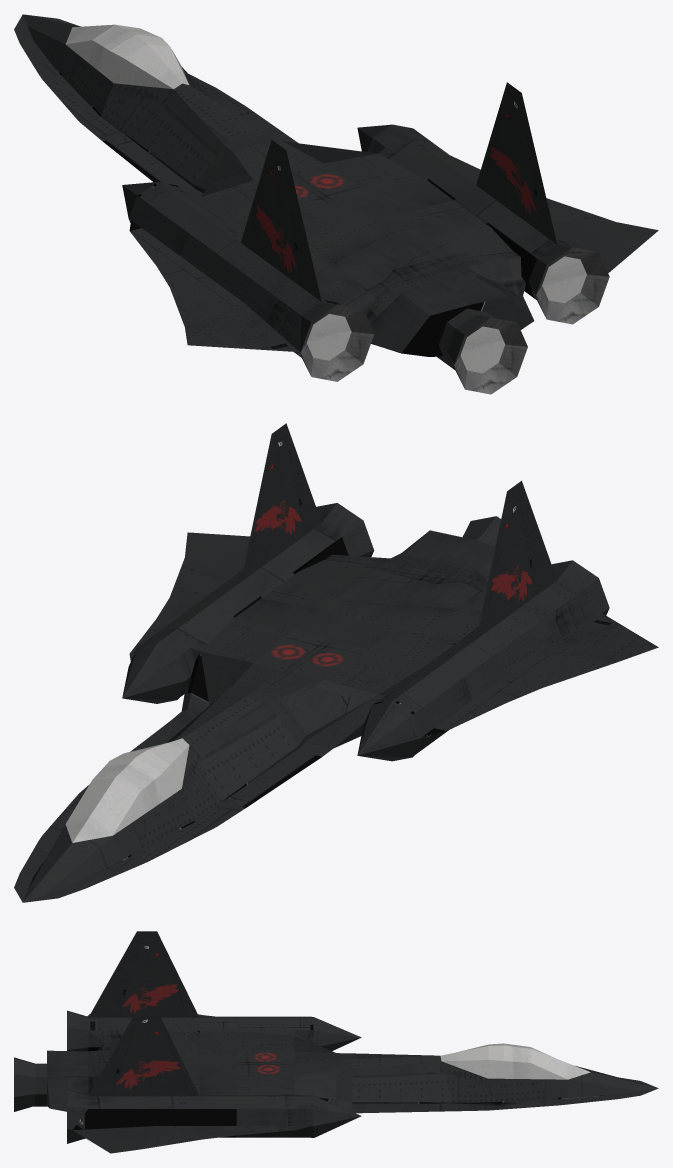
File: angelwing.gltf
3 renders of one model, top to bottom at view 1: azimuth 30°, elevation 25°; view 2: azimuth 150°, elevation 25°; view 3: azimuth 270°, elevation 25°, orthographic. The views are drawn at different scales.
Visible parts, largest first — view 1: AngleWing; view 2: AngleWing; view 3: AngleWing.
Part boxes in pixels (x1,y1,x2,y2): AngleWing: (14,14,658,394); AngleWing: (14,423,658,902); AngleWing: (14,931,658,1153).
Size of the model in its own units: 13.7 by 5.74 by 23.72.
Materials: 1 (1 with a texture image).
